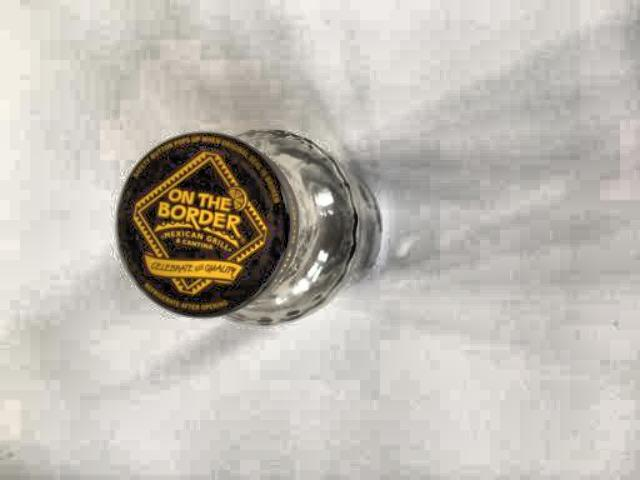Almennt: (106, 107, 394, 351)
